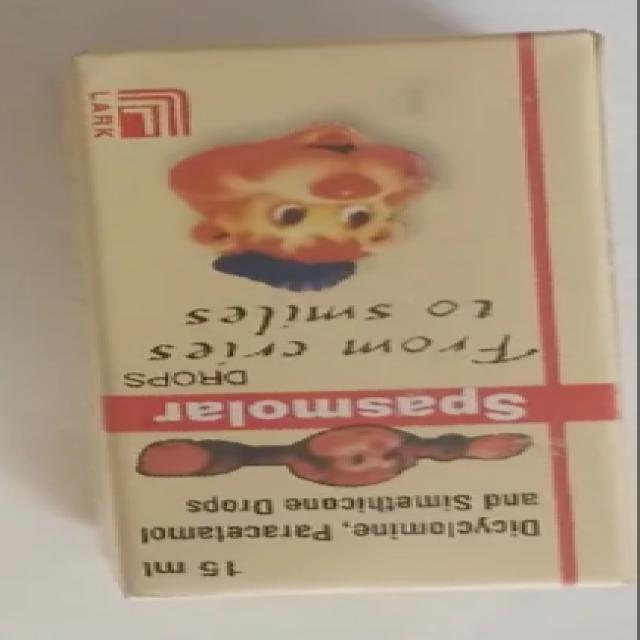drug-name: (154, 388, 544, 427)
